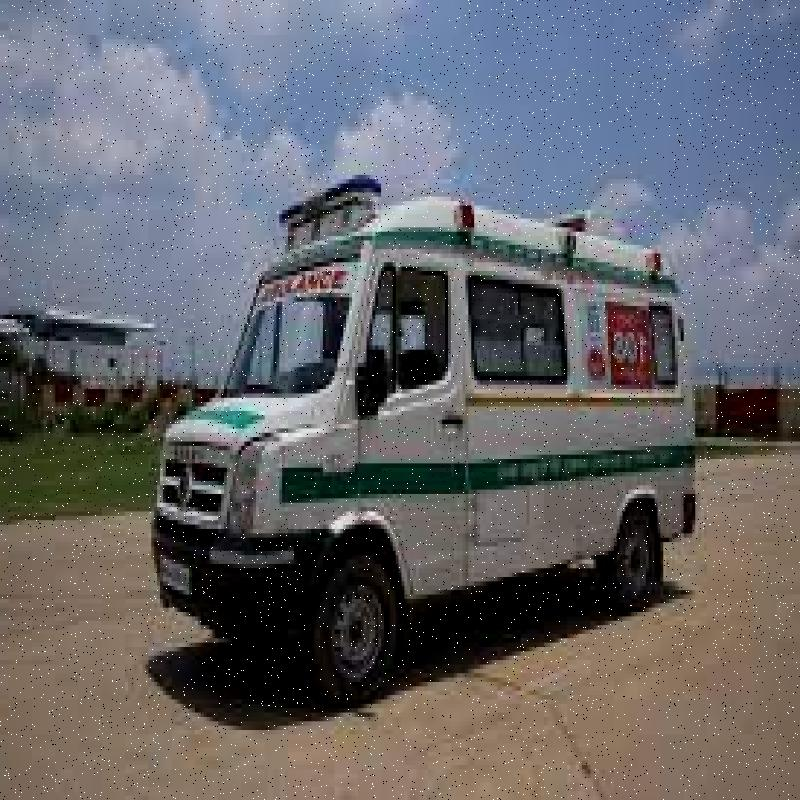AmbulanceSiren: (255, 156, 391, 234)
ambulance: (134, 138, 714, 714)
